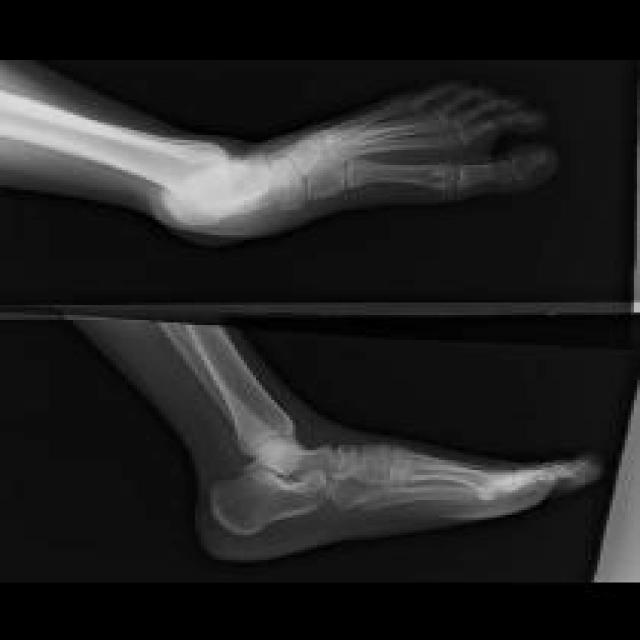normal: (165, 330, 590, 531), (12, 82, 556, 237)
